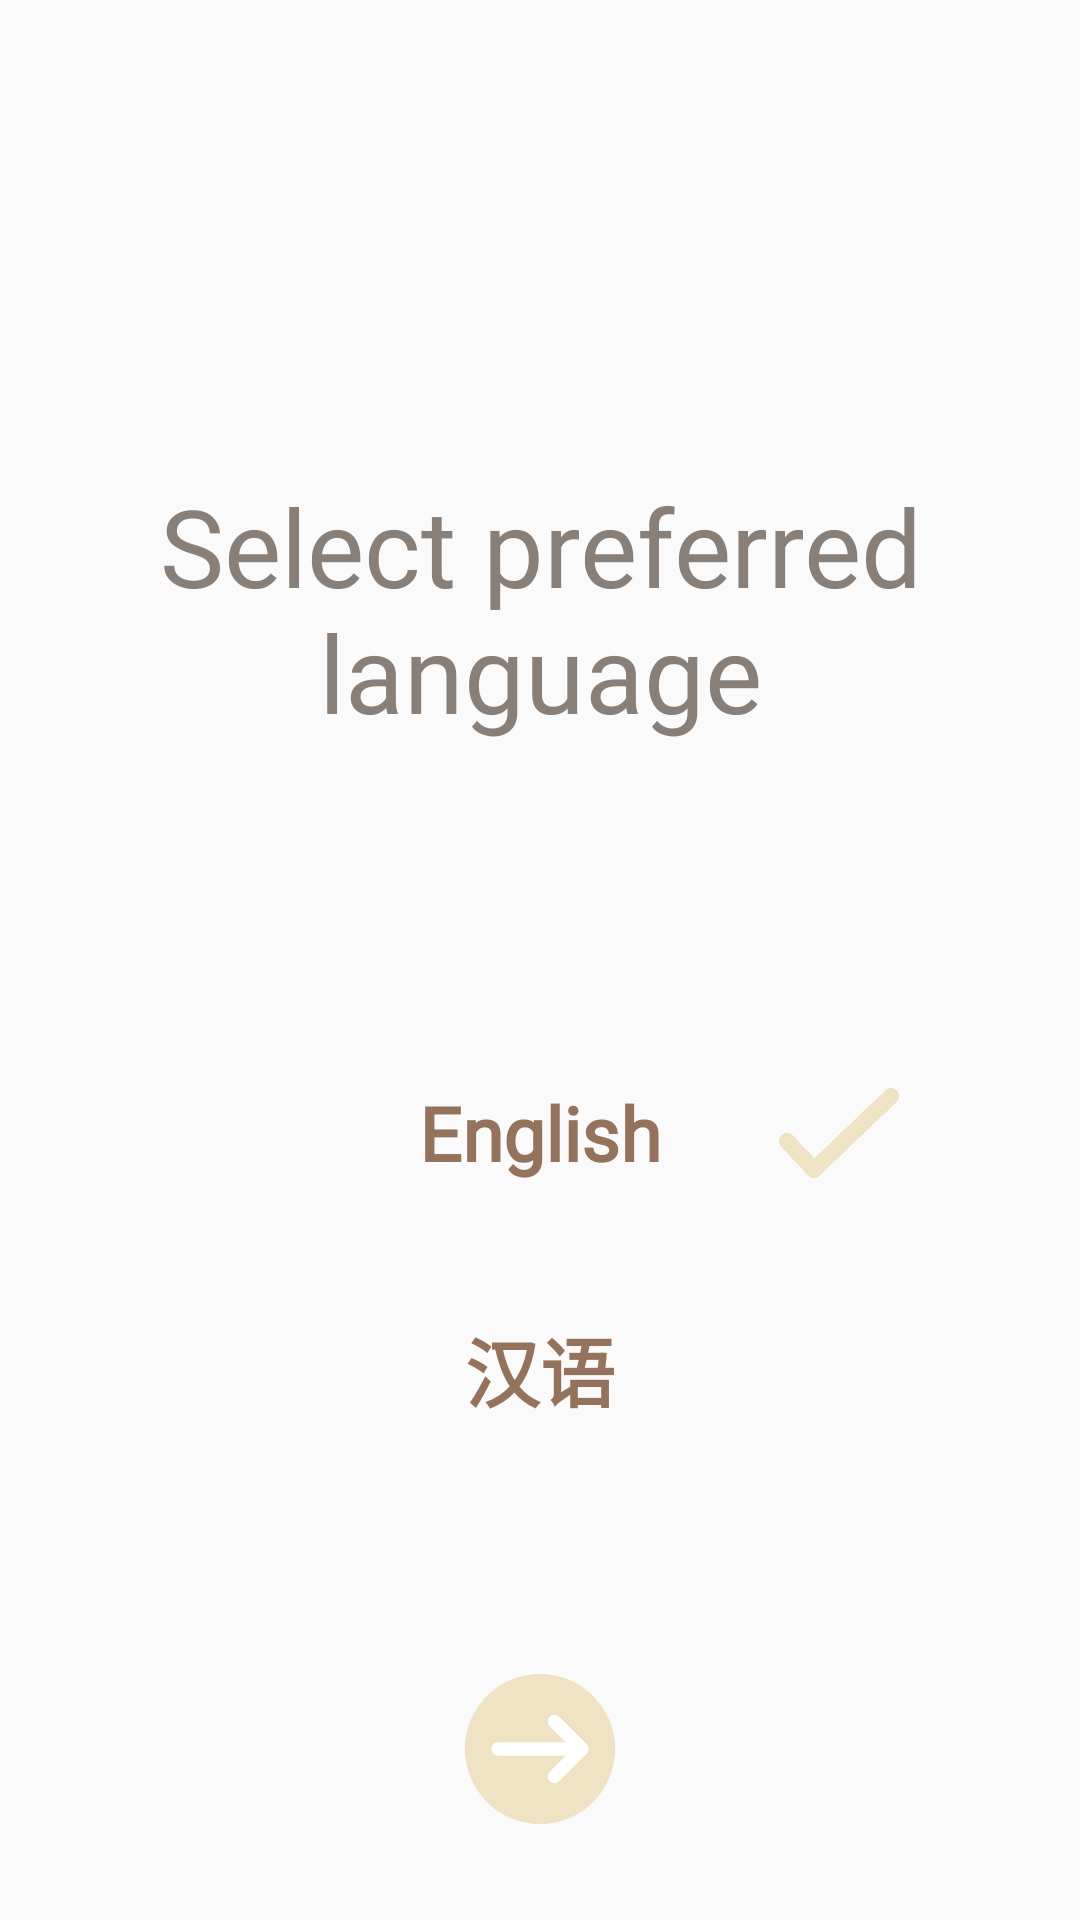

Locate icon controls on the screen. Image size 1080px×1920px, boxes as (x1, y1, x2, y2).
next arrow: (465, 1674, 615, 1824)
tick: (779, 1088, 899, 1178)
